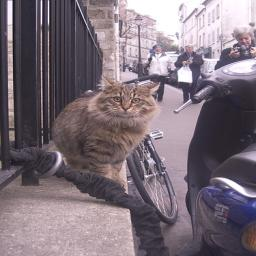catnose: (121, 106, 129, 112)
